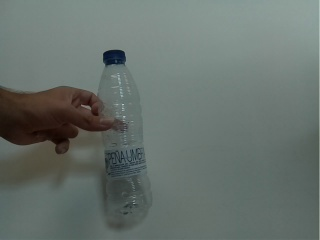botella plastico: (91, 48, 156, 219)
